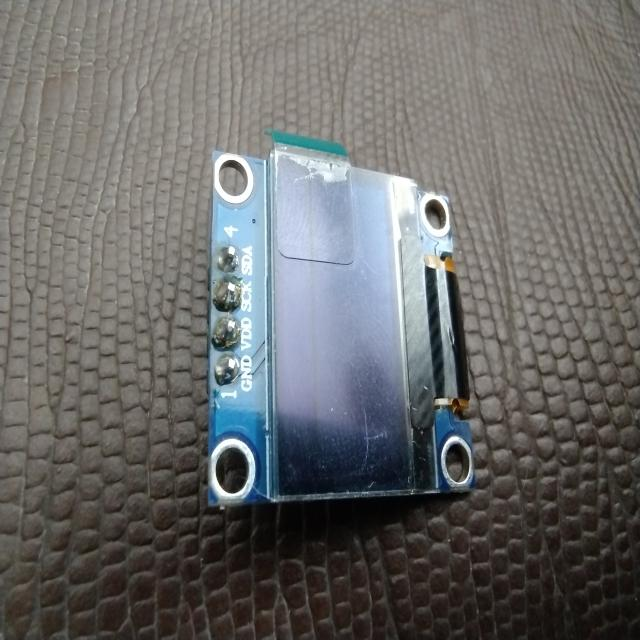oled: (206, 124, 481, 514)
